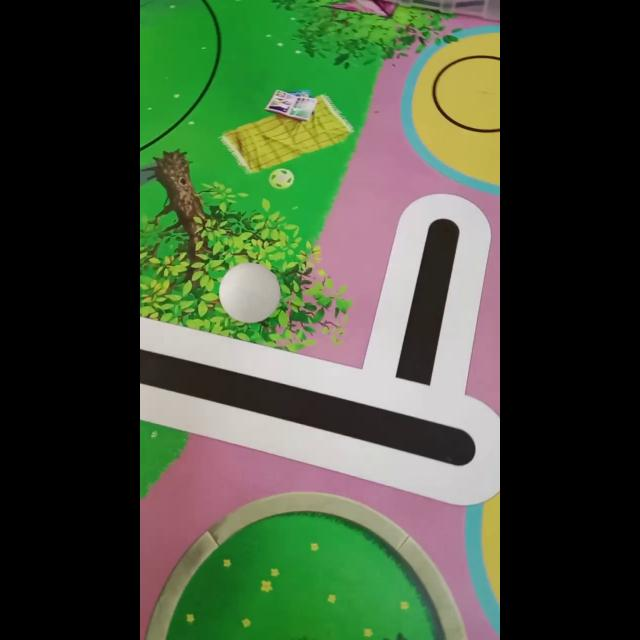white ball: (217, 261, 281, 323)
